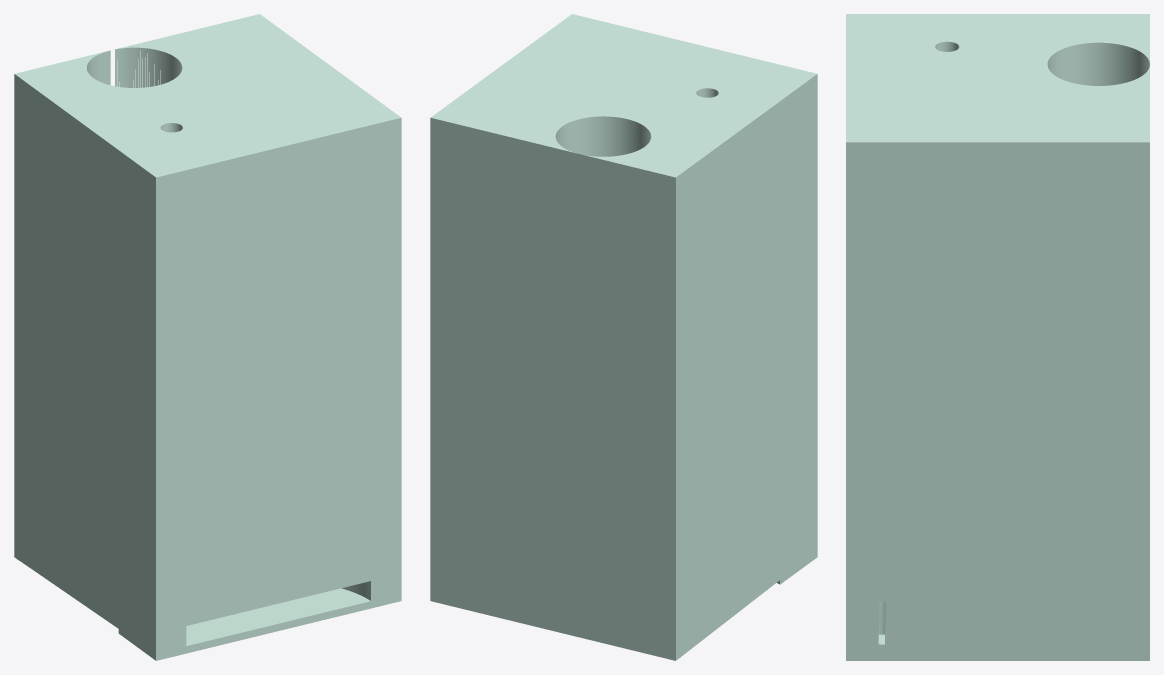
3 renders of one model, left to right at view 1: azimuth 30°, elevation 25°; view 2: azimuth 150°, elevation 25°; view 3: azimuth 270°, elevation 25°, orthographic. The views are drawn at different scales.
Parts seen in each view (by area): view 1: Renderer Node; view 2: Renderer Node; view 3: Renderer Node.
Boxes of the visible parts, box(x1,y1,x2,y2) form: Renderer Node: box(14, 14, 401, 660); Renderer Node: box(430, 14, 817, 660); Renderer Node: box(846, 14, 1149, 660).
Bounding box in the file's own units: 0.3984 × 0.75 × 0.3984.
